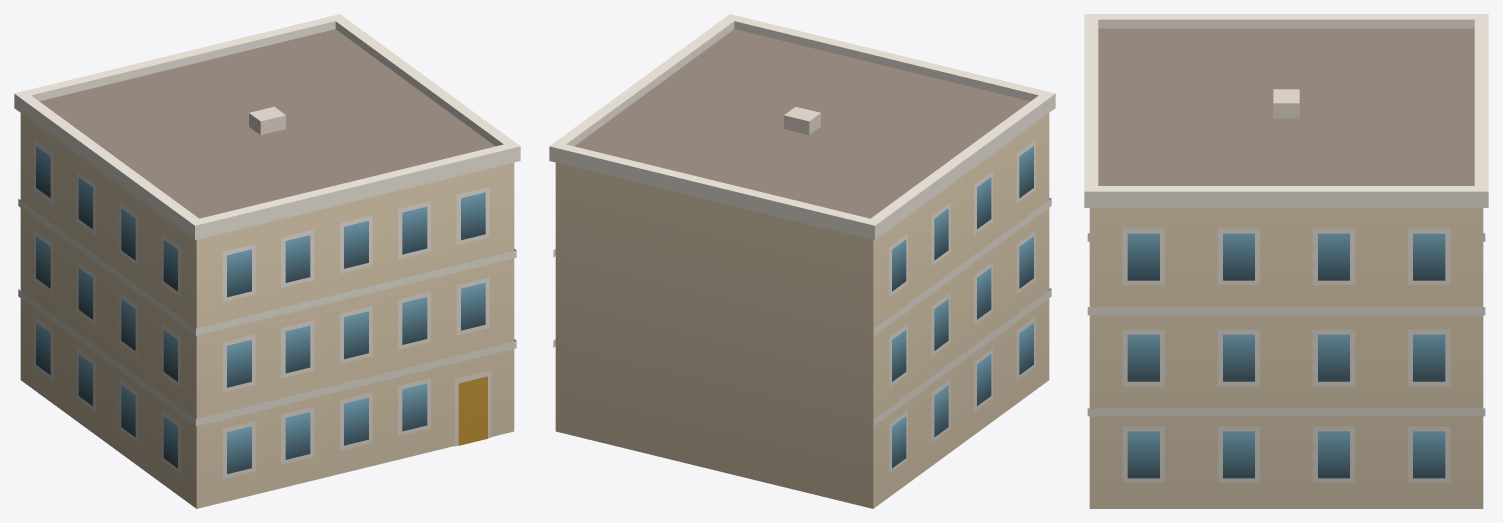
Rendered from vee_rightb2_far.glb.
The picture shows the model from 3 angles, left to right: view 1: azimuth 30°, elevation 25°; view 2: azimuth 150°, elevation 25°; view 3: azimuth 270°, elevation 25°; orthographic projection. The views are drawn at different scales.
Parts seen in each view (by area): view 1: vee_rightb2_far; view 2: vee_rightb2_far; view 3: vee_rightb2_far.
Boxes of the visible parts, bbox=[...] form: vee_rightb2_far: bbox=[14, 14, 520, 508]; vee_rightb2_far: bbox=[549, 14, 1055, 508]; vee_rightb2_far: bbox=[1084, 14, 1488, 508].
Bounding box in the file's own units: 12.82 × 10.97 × 12.32.
Materials: 1 (1 with a texture image).
